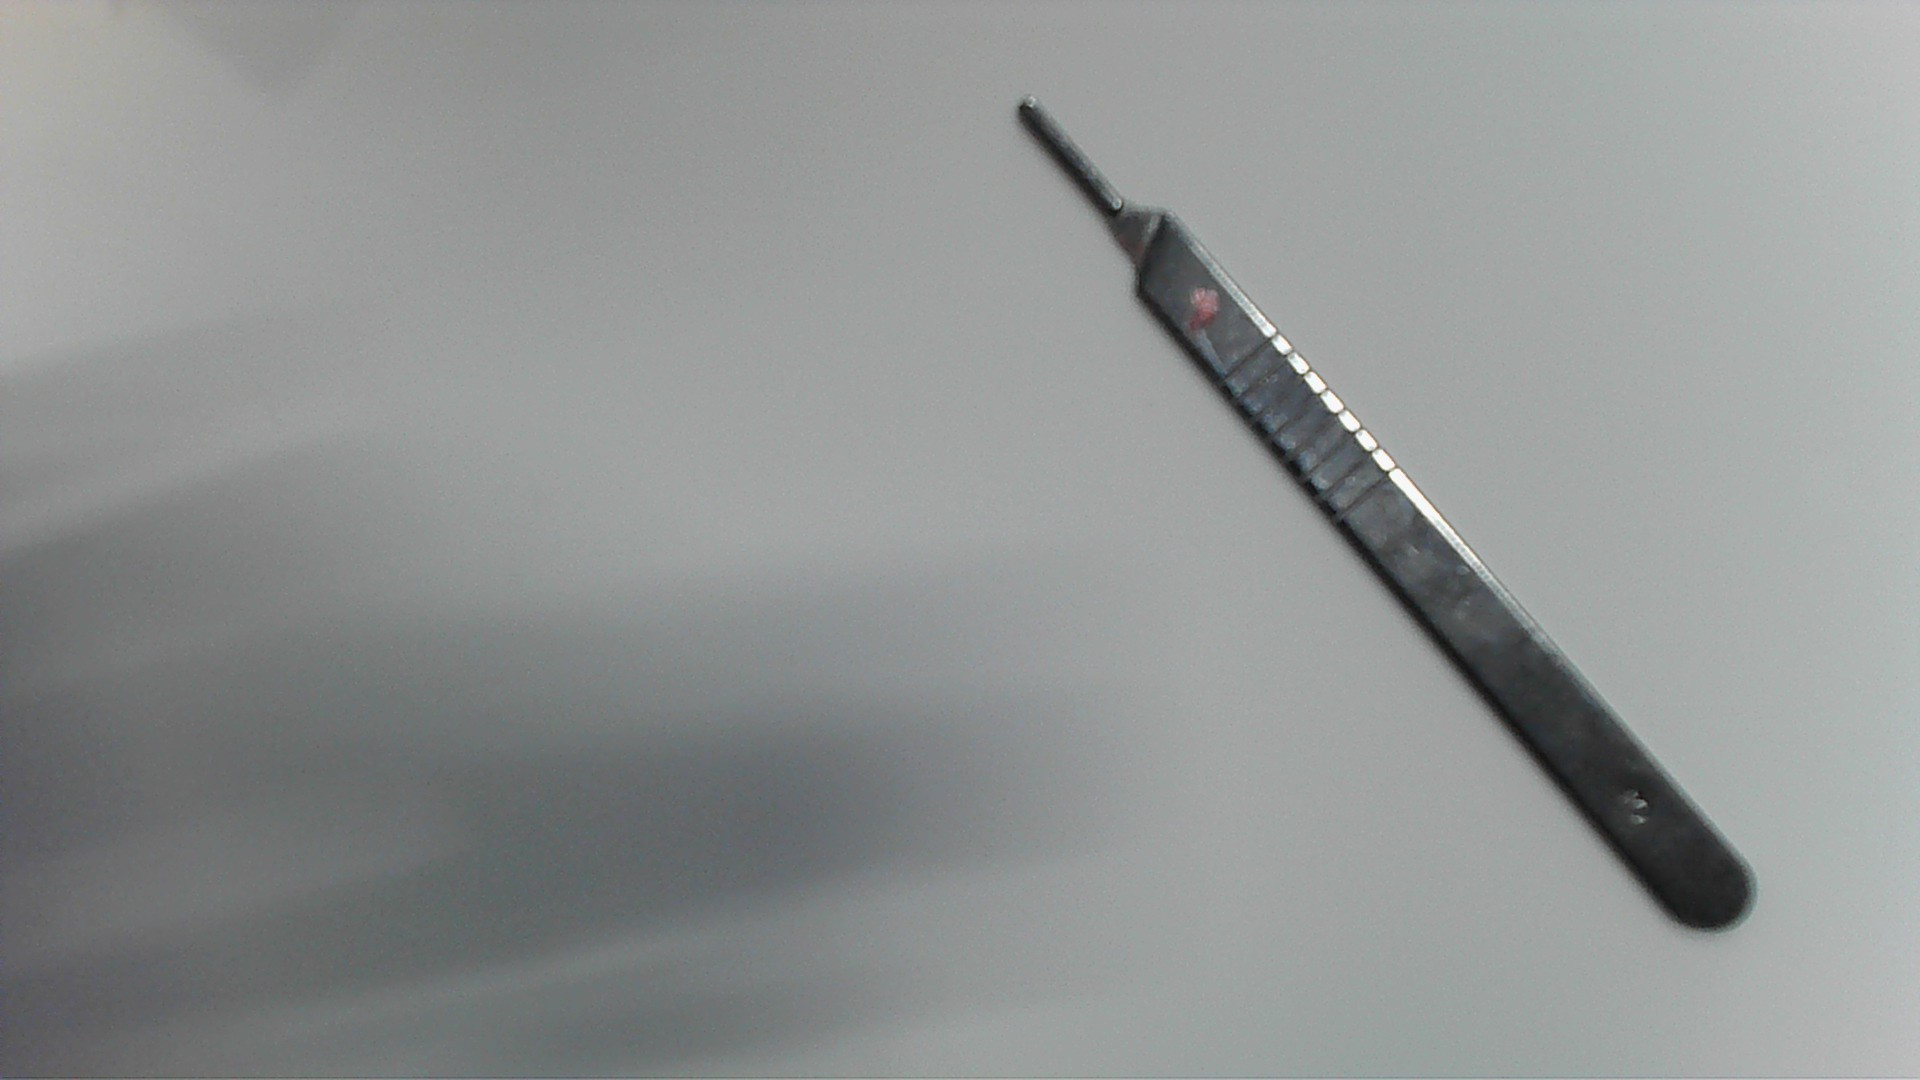Stain: (1179, 287, 1229, 326)
